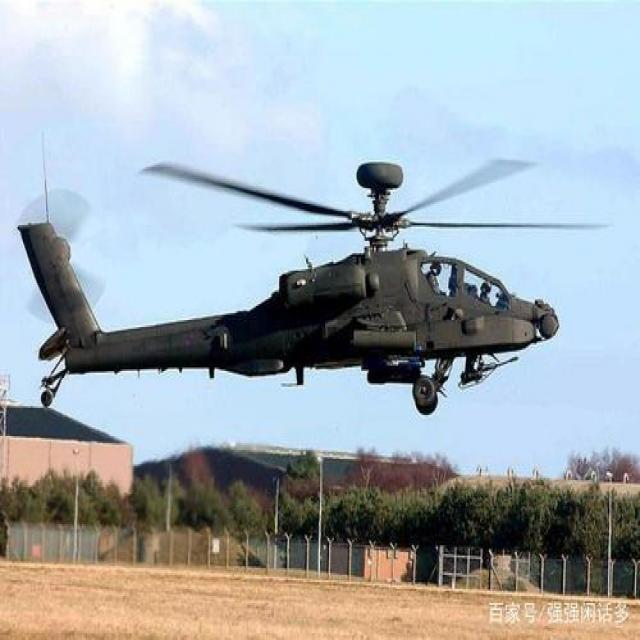MIL_HELO: (15, 148, 621, 420)
